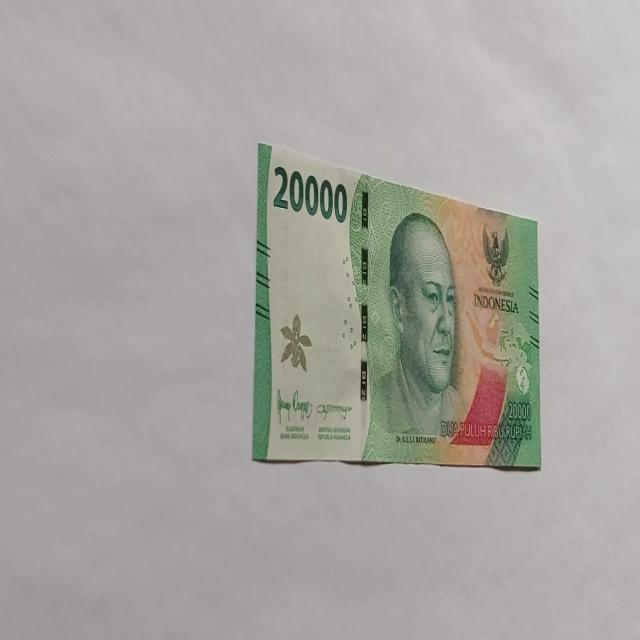dua puluh ribu rupiah: (252, 142, 541, 470)
